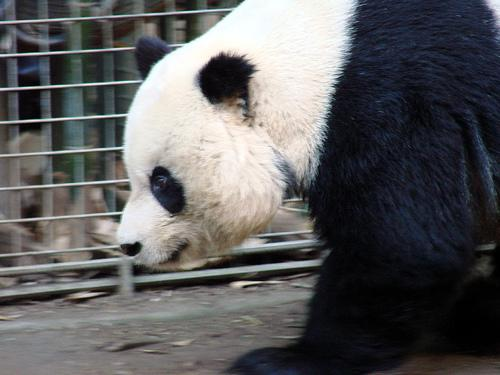panda: (117, 0, 500, 374)
